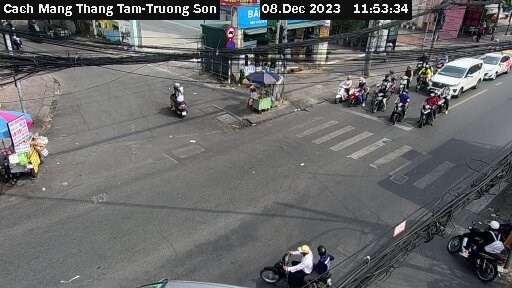car: (430, 56, 481, 100), (474, 51, 512, 80)
motorbike: (254, 230, 333, 288), (452, 214, 509, 285), (160, 81, 203, 126), (388, 96, 417, 132), (414, 97, 444, 129), (331, 78, 356, 104), (354, 81, 374, 109), (395, 67, 417, 91), (372, 88, 393, 113), (433, 85, 454, 109)
